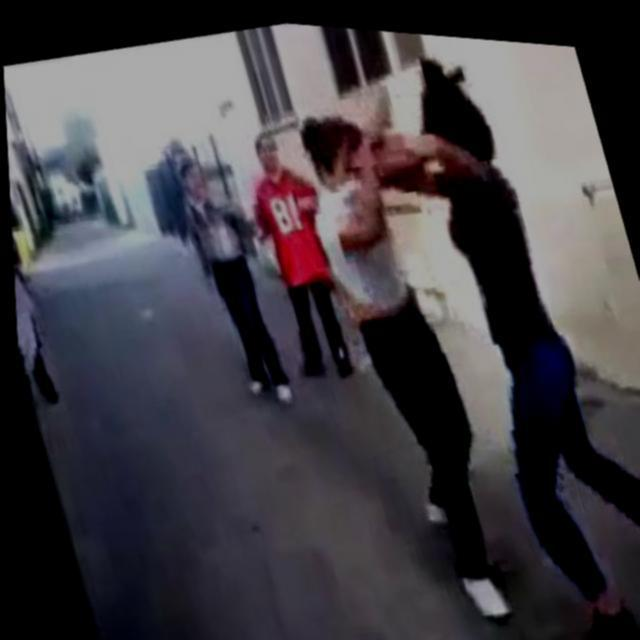fight: (274, 18, 640, 640)
